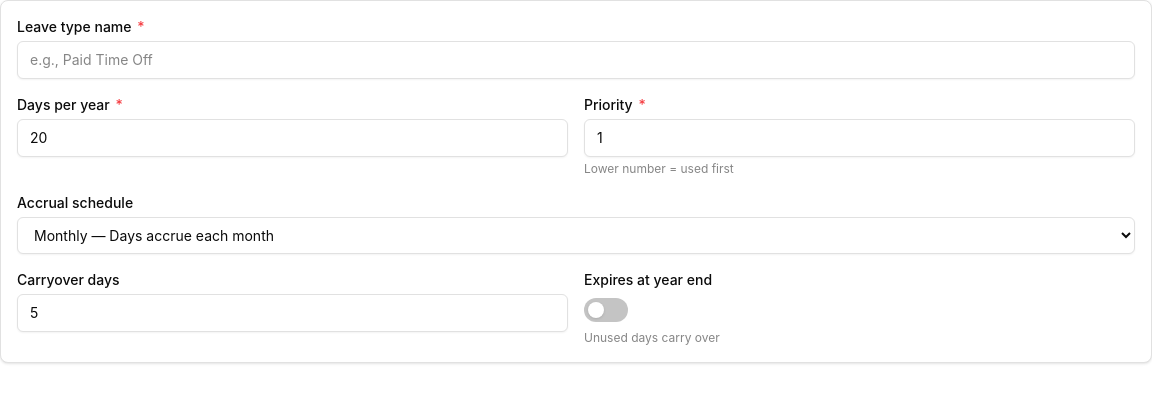
Test case: LeaveTypeForm › validation › shows name error only after touch
Expected: the text "name is required" is not shown
# After touch
Click the field with placeholder "e.g., Paid Time Off". click: (576, 60)
box: [17,41,1135,79]
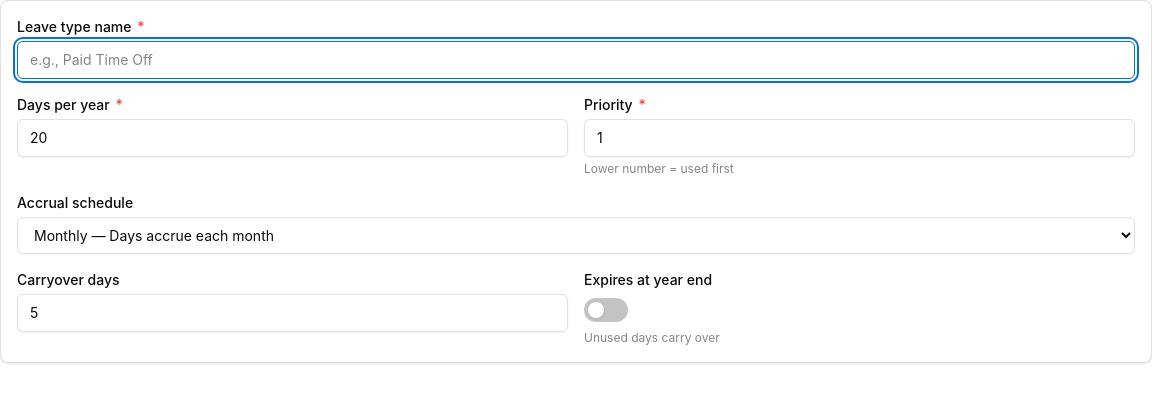
Press Tab
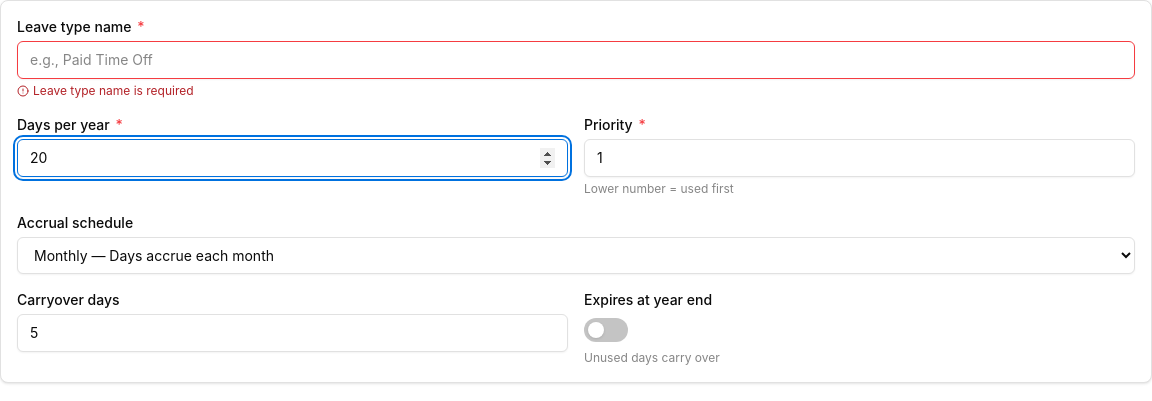
Expected: the text "Leave type name is required" is shown, [17,83,194,98]
